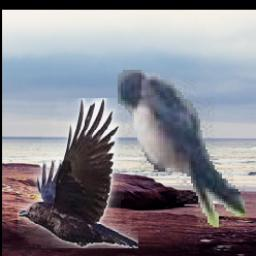Crow: (19, 99, 139, 249)
Swallow: (119, 71, 248, 229)
